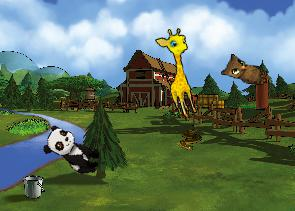giraffe: (153, 25, 208, 120)
owl: (220, 52, 270, 85)
panda: (39, 122, 106, 179)
